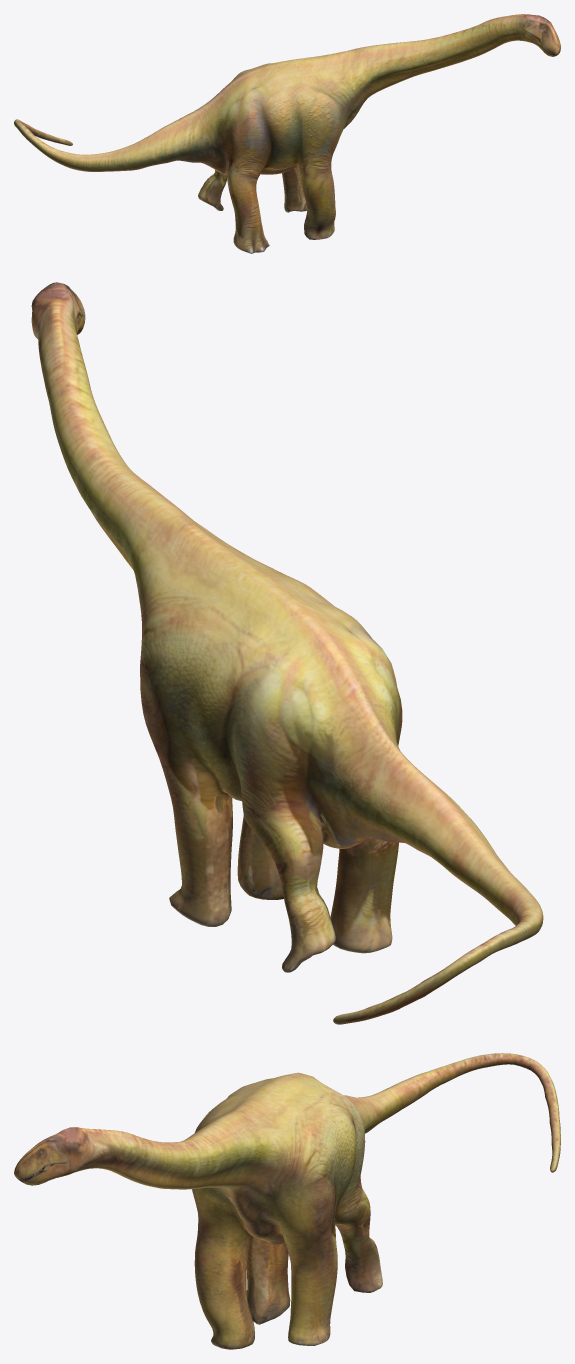
The picture shows the model from 3 angles, top to bottom: view 1: azimuth 30°, elevation 25°; view 2: azimuth 150°, elevation 25°; view 3: azimuth 270°, elevation 25°; orthographic projection. The views are drawn at different scales.
Parts seen in each view (by area): view 1: Mesh0; view 2: Mesh0; view 3: Mesh0.
Part boxes in pixels (x1,y1,x2,y2): Mesh0: [14, 14, 560, 253]; Mesh0: [31, 282, 543, 1024]; Mesh0: [14, 1053, 560, 1349].
Size of the model in its own units: 1.68 by 0.9575 by 1.39.
1 material, 1 textured.
